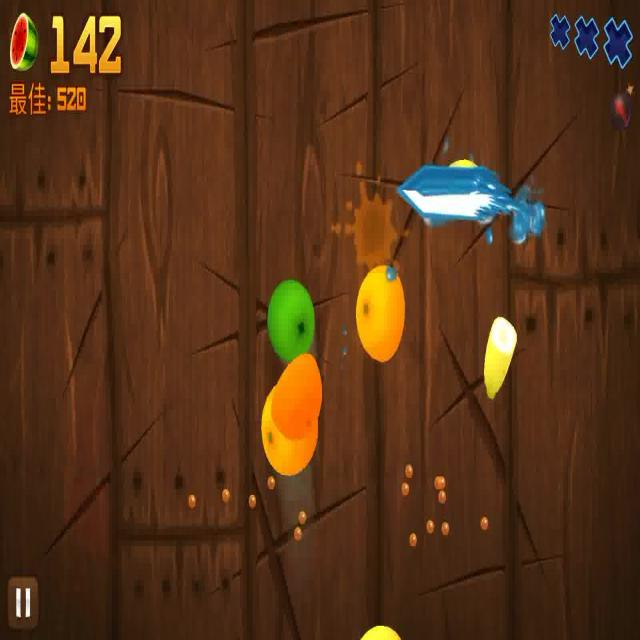fruit: (355, 261, 406, 362), (260, 382, 318, 470), (271, 351, 324, 428), (265, 281, 314, 353), (482, 312, 516, 398)
